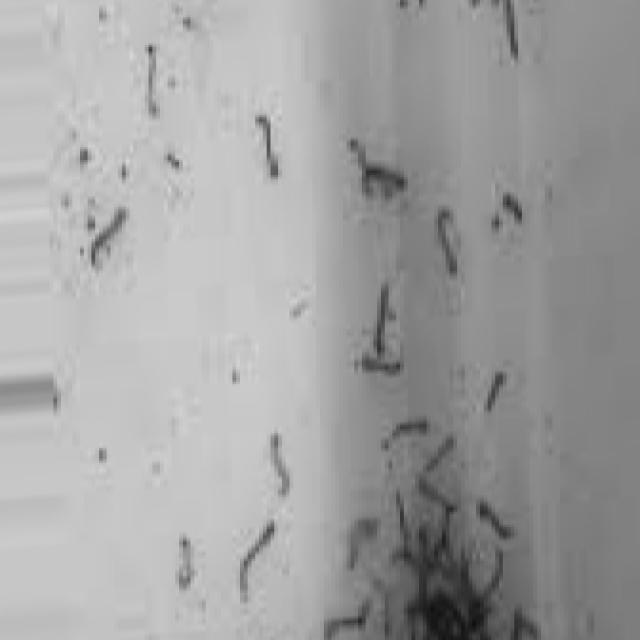larvas: (236, 522, 276, 597), (421, 437, 456, 513), (83, 207, 125, 268), (340, 521, 380, 570), (140, 40, 164, 121), (266, 432, 293, 502), (372, 282, 396, 355), (477, 547, 510, 599), (388, 488, 411, 556), (434, 207, 456, 276), (255, 119, 281, 177), (327, 603, 367, 640), (354, 170, 408, 197), (170, 537, 198, 587), (479, 500, 515, 538), (385, 419, 430, 449), (350, 137, 390, 170), (369, 584, 395, 634), (438, 599, 469, 640), (502, 0, 522, 59), (352, 359, 408, 374), (487, 369, 507, 410), (439, 552, 464, 584), (396, 606, 419, 640), (411, 564, 434, 598), (439, 508, 458, 548), (503, 608, 526, 640), (413, 526, 431, 560), (459, 551, 472, 597)
